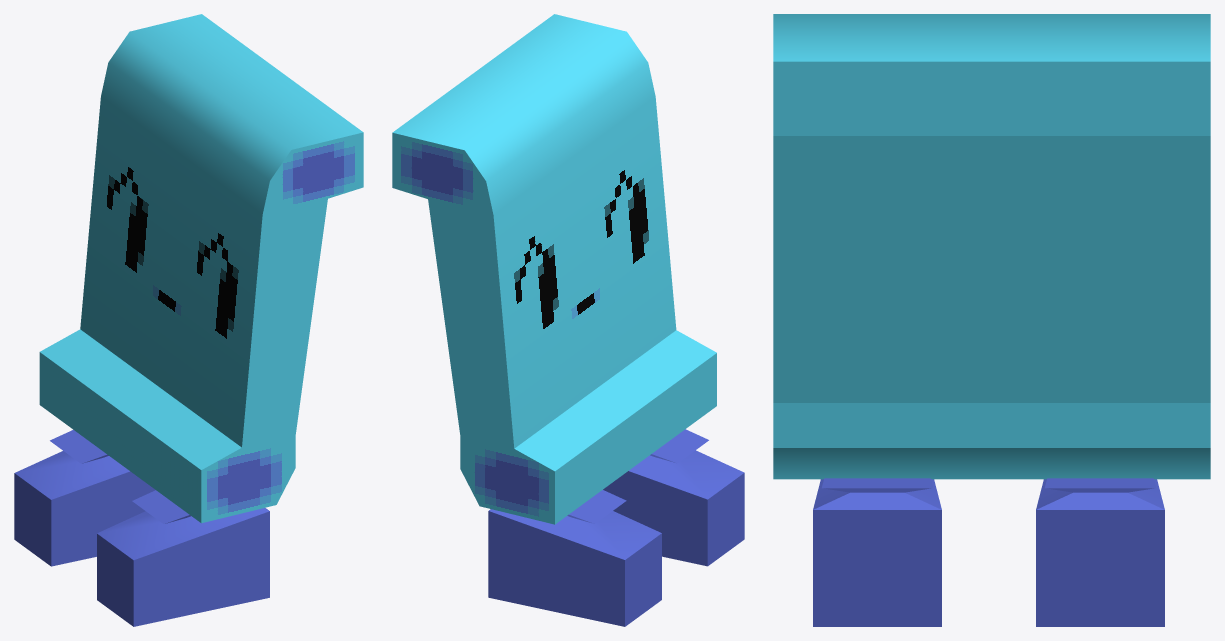
Rendered from Scripty.glb.
3 renders of one model, left to right at view 1: azimuth 30°, elevation 25°; view 2: azimuth 150°, elevation 25°; view 3: azimuth 270°, elevation 25°, orthographic. The views are drawn at different scales.
Visible parts, largest first — view 1: Cube.001; view 2: Cube.001; view 3: Cube.001.
Boxes of the visible parts, box(x1,y1,x2,y2) form: Cube.001: box(14, 14, 363, 626); Cube.001: box(392, 14, 744, 626); Cube.001: box(773, 14, 1210, 626).
Size of the model in its own units: 1.5 by 3.13 by 2.
Materials: 3 (3 with a texture image).
